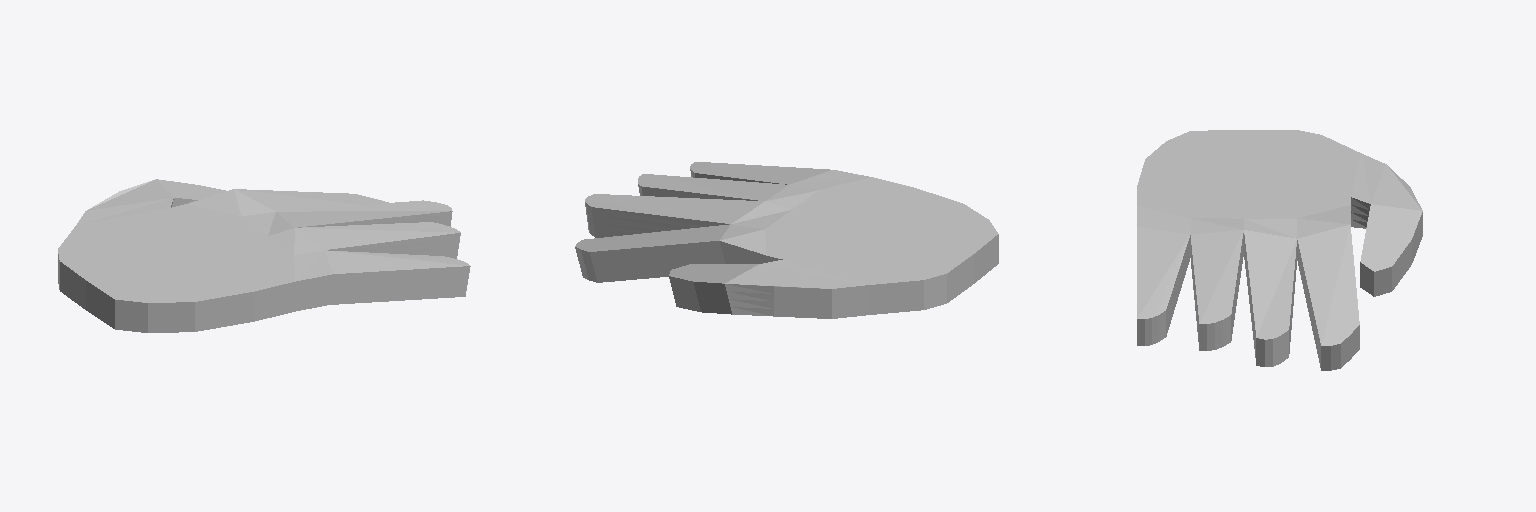
Rendered from hand.obj.
3 renders of one model, left to right at view 1: azimuth 30°, elevation 25°; view 2: azimuth 150°, elevation 25°; view 3: azimuth 270°, elevation 25°, orthographic.
Parts seen in each view (by area): view 1: Cube; view 2: Cube; view 3: Cube.
Part boxes in pixels (x1,y1,x2,y2): Cube: (58,179,470,332); Cube: (575,162,998,318); Cube: (1137,130,1422,370).
Bounding box in the file's own units: 8.25 × 1.59 × 5.44.